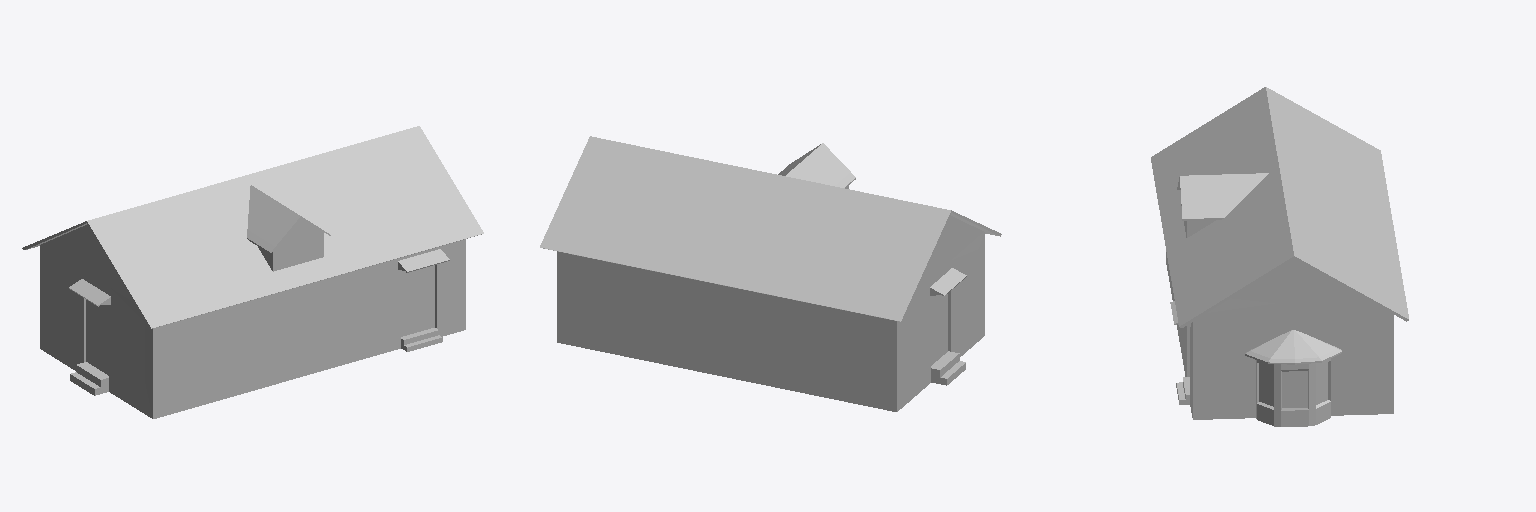
The model's file is cottage.obj.
3 renders of one model, left to right at view 1: azimuth 30°, elevation 25°; view 2: azimuth 150°, elevation 25°; view 3: azimuth 270°, elevation 25°, orthographic.
Parts seen in each view (by area): view 1: Cube_Cube.002; view 2: Cube_Cube.002; view 3: Cube_Cube.002.
Part boxes in pixels (x1,y1,x2,y2): Cube_Cube.002: (22,126,483,418); Cube_Cube.002: (540,136,1001,411); Cube_Cube.002: (1151,87,1408,426).
Size of the model in its own units: 33.93 by 14.74 by 20.74.